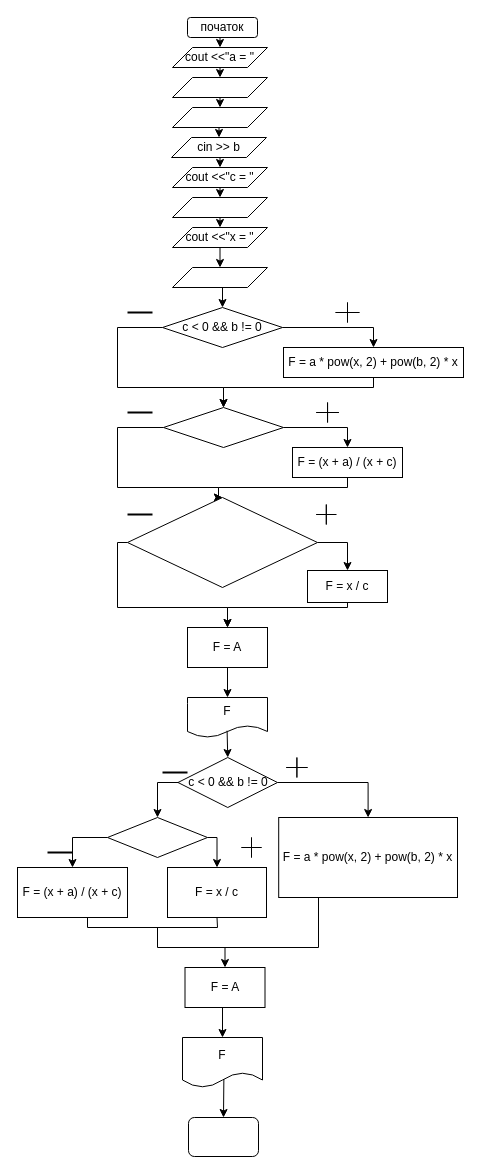
The diagram is 481 pixels wide and 1174 high, and some of its shapes have lost their labels. The centre of each missing label's shape, as x and y in pixels:
!(c < 0 && b != 0) &&: the point at 222,542
c > 0 && b == 0: the point at 223,427
cin >> a: the point at 220,87
cin >> c: the point at 220,207
cin >> x: the point at 220,277
cout <<"b = ": the point at 220,117
else: the point at 157,837
кінець: the point at 223,1136
